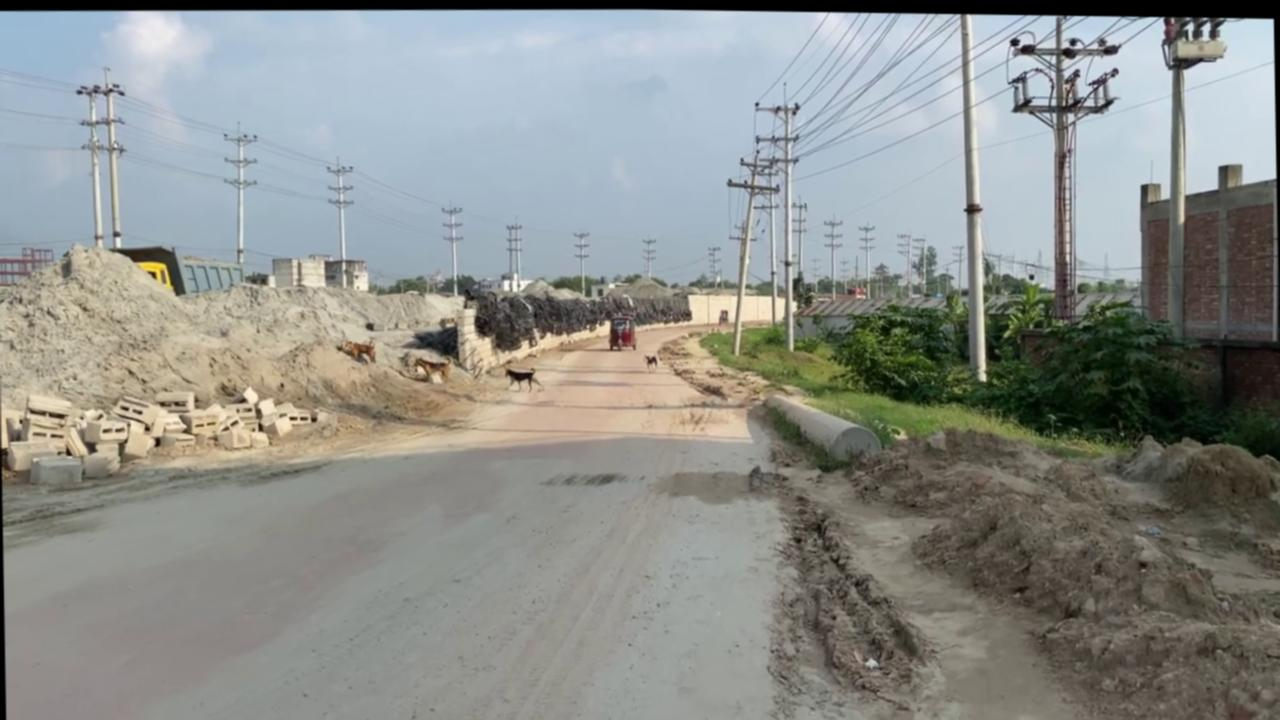Animal: (413, 354, 451, 381), (336, 337, 374, 363), (504, 363, 535, 389)
Dog: (643, 351, 657, 370)
Garbage: (1, 380, 320, 488)
Garbage-bin: (608, 314, 637, 349)
Obstacle: (28, 453, 84, 486)
Pole: (957, 11, 987, 379), (1160, 13, 1190, 334), (100, 66, 127, 247)
Tree: (109, 242, 244, 298), (133, 259, 175, 294)
